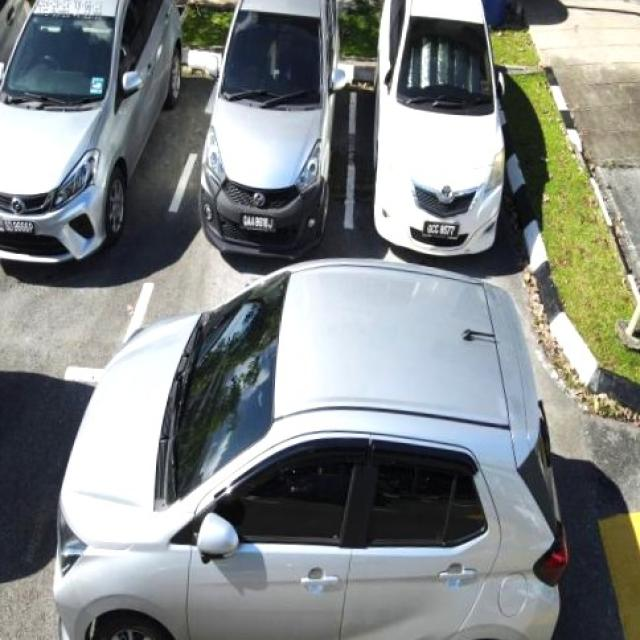Legalparking: (0, 0, 180, 262), (198, 0, 345, 257), (373, 0, 504, 255)
illegalparking: (52, 259, 567, 639)
